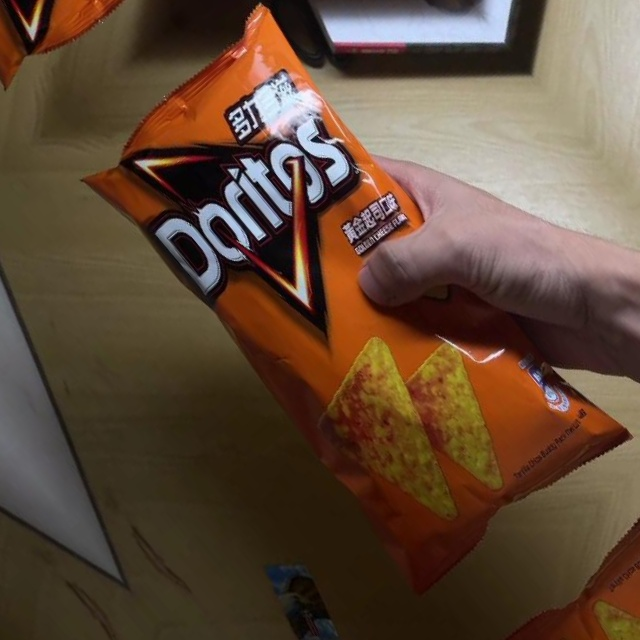Doritos: (59, 0, 640, 613)
